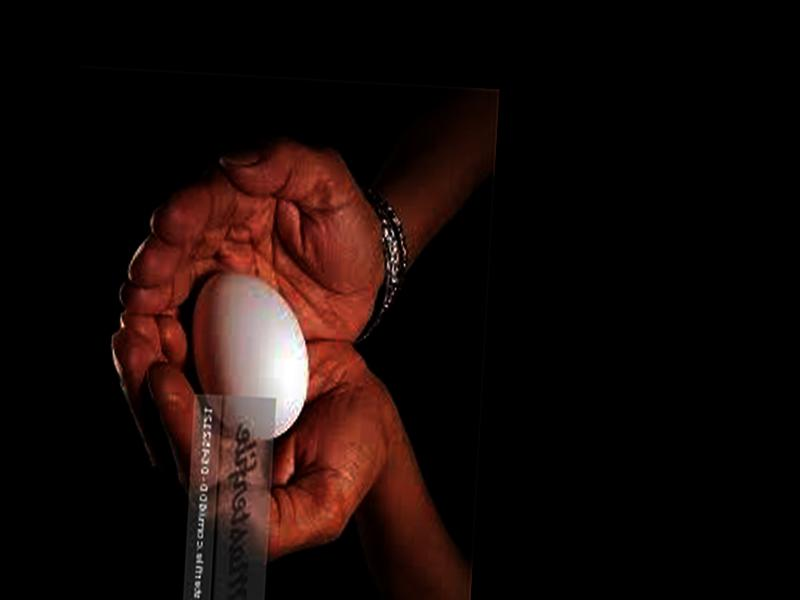Eggs: (184, 268, 314, 441)
